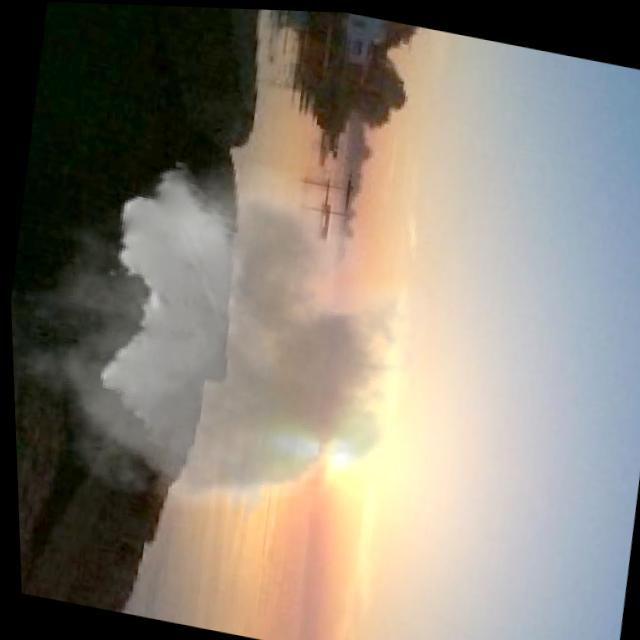no_helmet: (11, 121, 462, 567)
